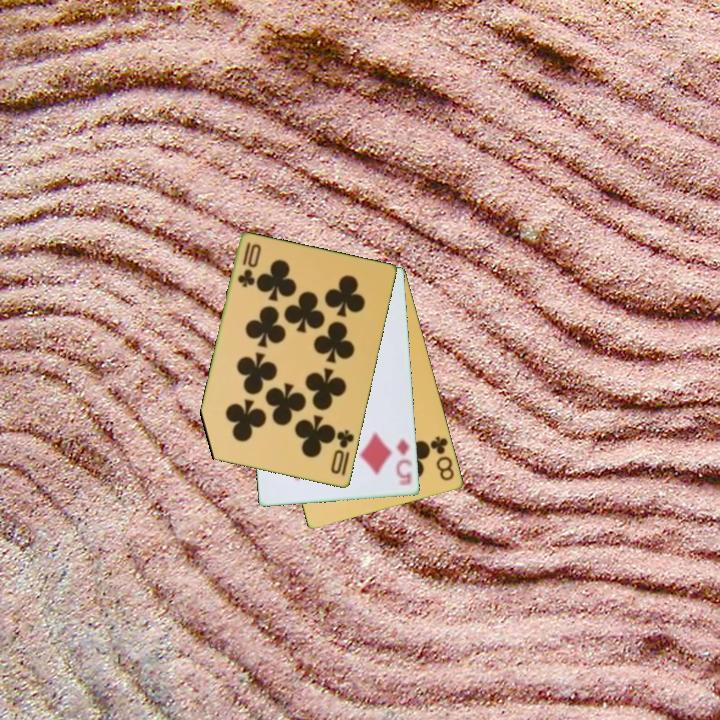10c: (327, 426, 357, 477), (234, 239, 257, 291)
5d: (393, 436, 415, 489)
8c: (427, 432, 457, 484)
